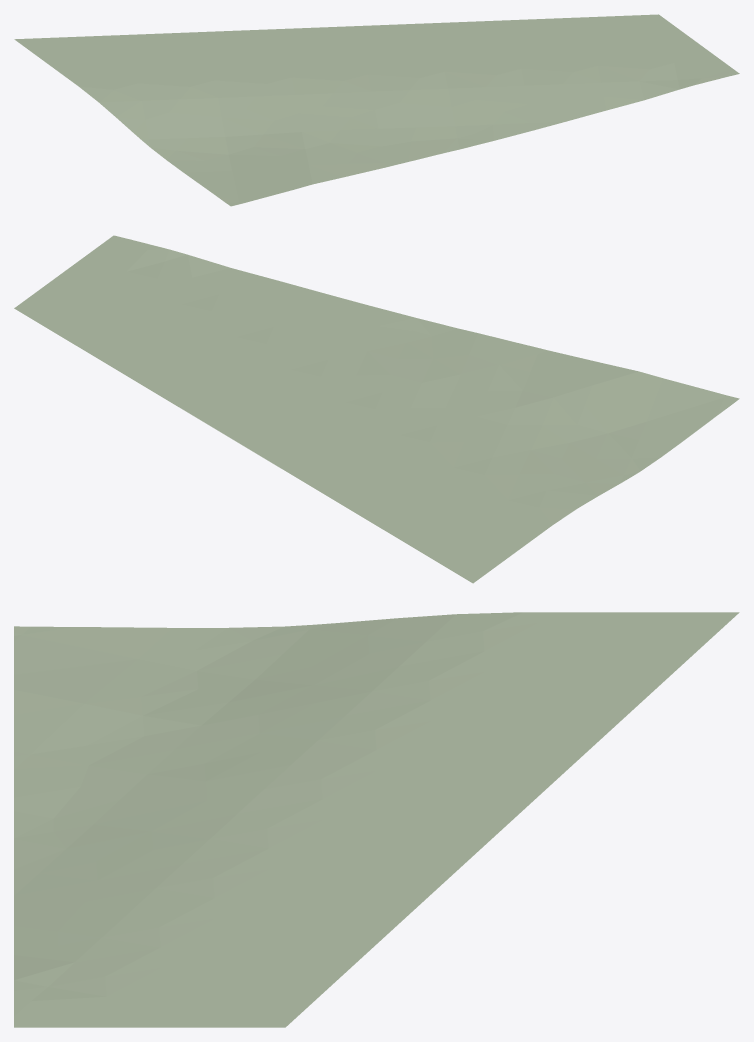
Rendered from SM_MPRR_Terrain_4_2.fbx.
The picture shows the model from 3 angles, top to bottom: view 1: azimuth 30°, elevation 25°; view 2: azimuth 150°, elevation 25°; view 3: azimuth 270°, elevation 25°; orthographic projection. The views are drawn at different scales.
Parts seen in each view (by area): view 1: SM_MPRR_Terrain_4_2; view 2: SM_MPRR_Terrain_4_2; view 3: SM_MPRR_Terrain_4_2.
Part boxes in pixels (x1=…): SM_MPRR_Terrain_4_2: x1=14, y1=14, x2=739, y2=206; SM_MPRR_Terrain_4_2: x1=14, y1=235, x2=739, y2=583; SM_MPRR_Terrain_4_2: x1=14, y1=612, x2=739, y2=1027.
Bounding box in the file's own units: 15000 × 11074 × 267.
